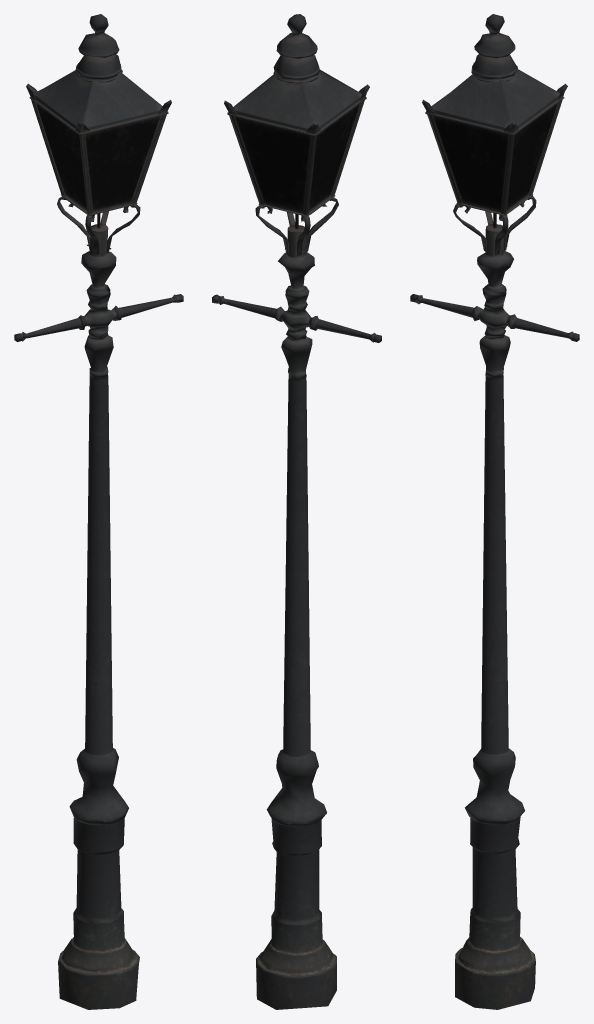
File: street_lamp_01.glb
The picture shows the model from 3 angles, left to right: view 1: azimuth 30°, elevation 25°; view 2: azimuth 150°, elevation 25°; view 3: azimuth 330°, elevation 25°; orthographic projection.
Parts seen in each view (by area): view 1: street_lamp_01_post_mesh, street_lamp_01; view 2: street_lamp_01_post_mesh, street_lamp_01; view 3: street_lamp_01_post_mesh, street_lamp_01.
Boxes of the visible parts, x1,y1,x2,y2 form: street_lamp_01_post_mesh: (14, 14, 183, 1009); street_lamp_01: (35, 103, 161, 212); street_lamp_01_post_mesh: (212, 14, 381, 1009); street_lamp_01: (234, 103, 360, 213); street_lamp_01_post_mesh: (410, 14, 579, 1009); street_lamp_01: (432, 103, 558, 212).
Bounding box in the file's own units: 0.6892 × 3.87 × 0.3865.
3 materials, 3 textured.
